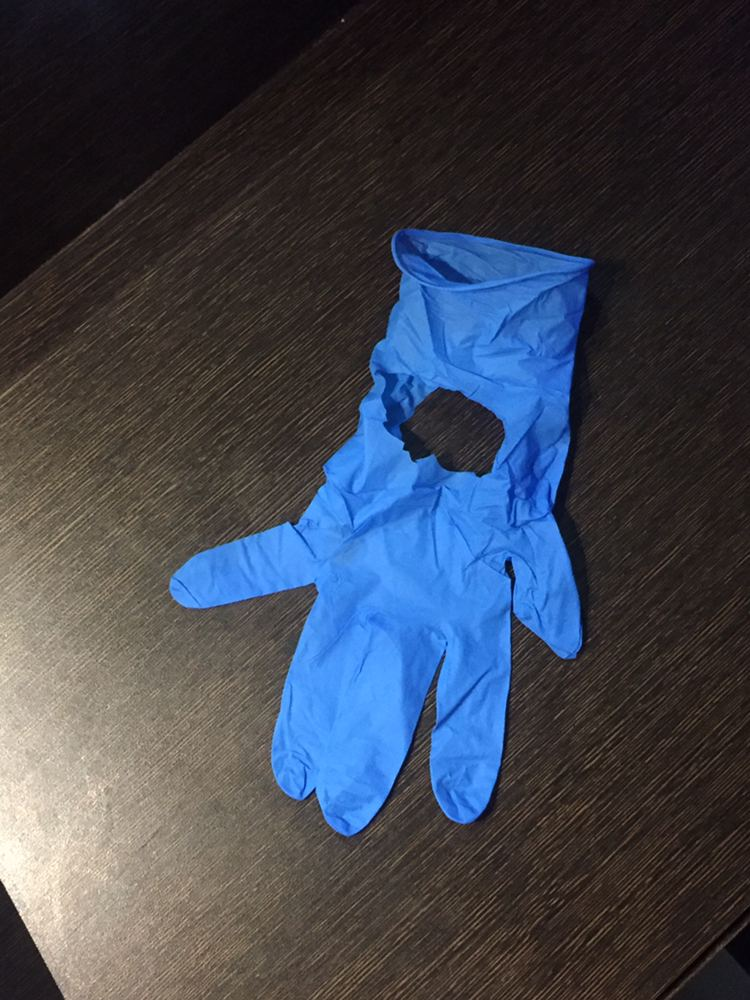defected: (177, 181, 664, 842)
